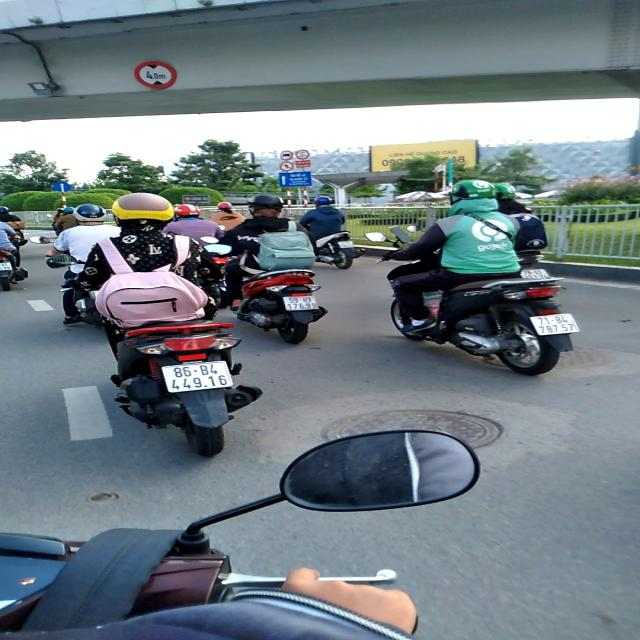Cam con lai: (279, 160, 294, 172), (295, 149, 309, 160), (280, 150, 292, 162)
Chieu cao toi da: (133, 61, 177, 89)
Hieu lenh: (52, 181, 72, 193)
